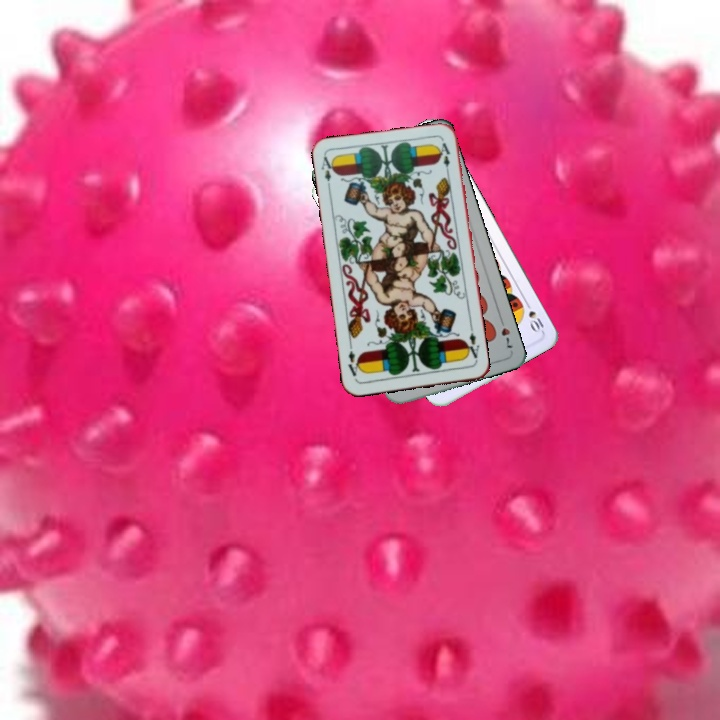EA: (317, 152, 338, 193), (461, 324, 482, 364)
H7: (495, 313, 515, 351)
S10: (521, 297, 546, 336)
